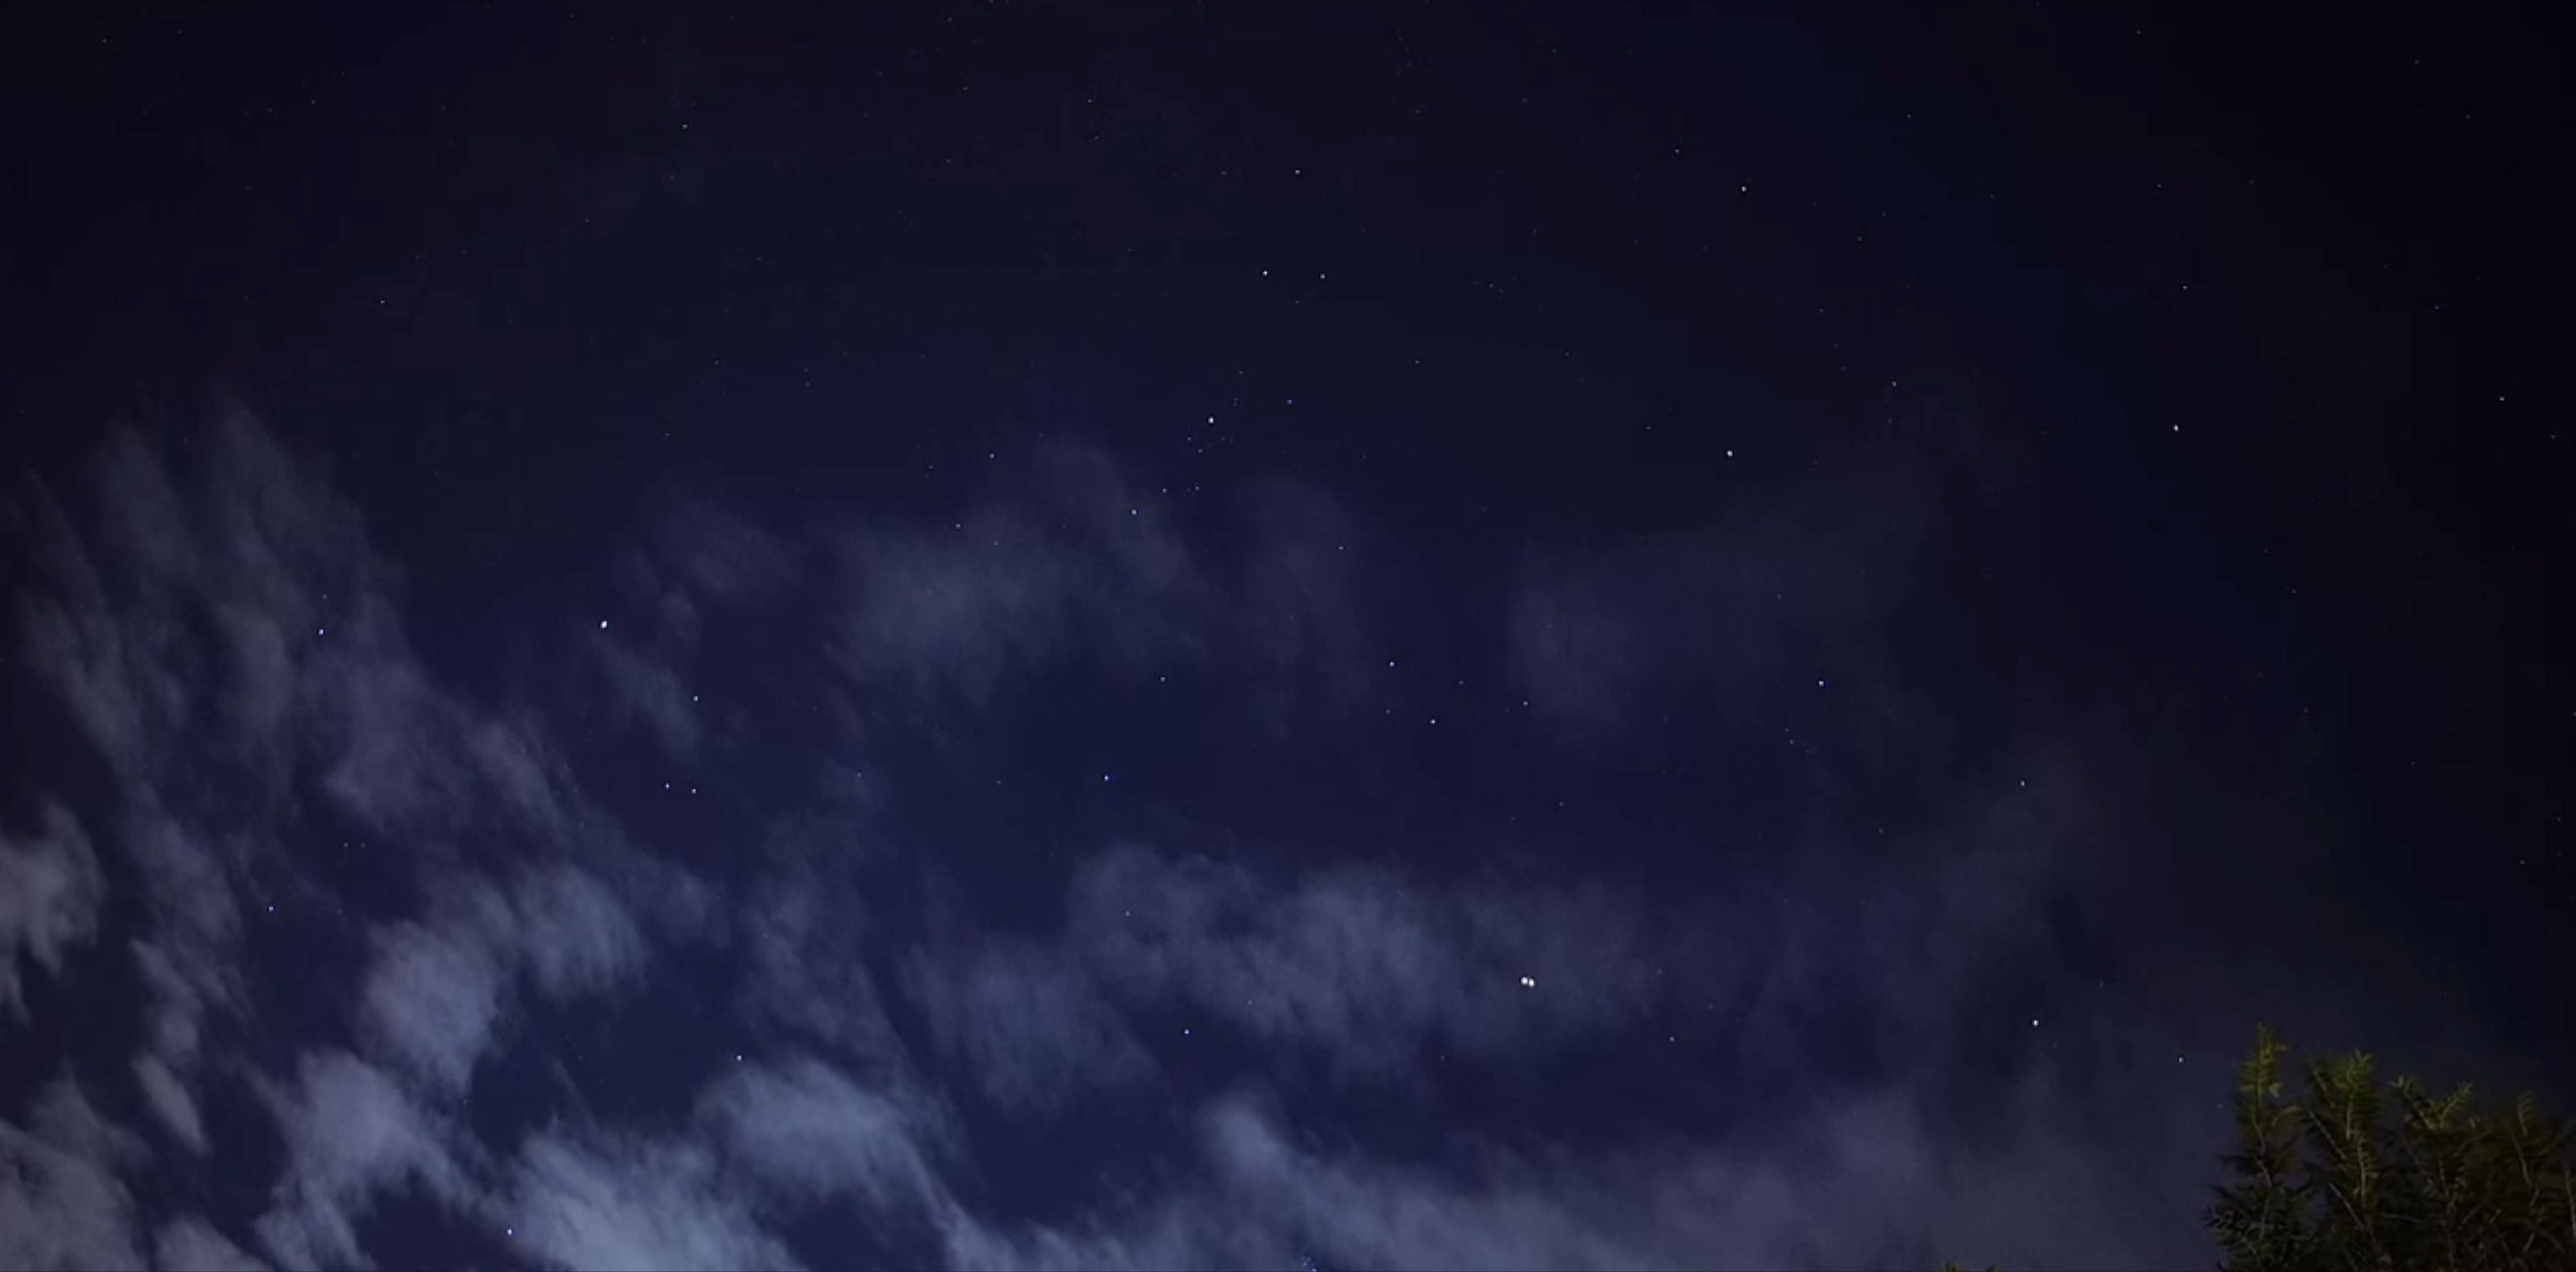Plane: (1510, 966, 1549, 1002)
